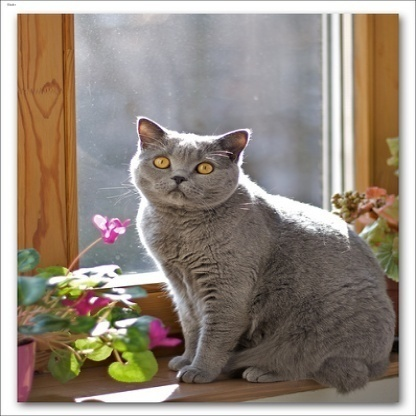british_shorthair: (130, 118, 395, 394)
